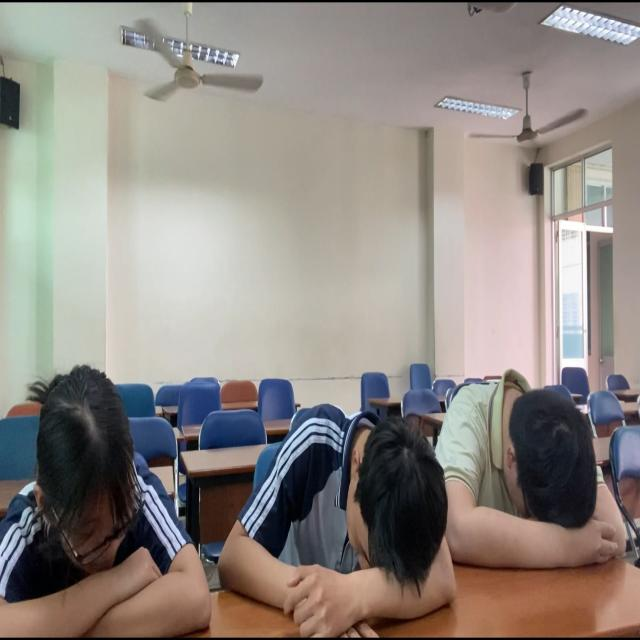sleep: (219, 400, 462, 639), (1, 367, 213, 640), (434, 377, 639, 580)
